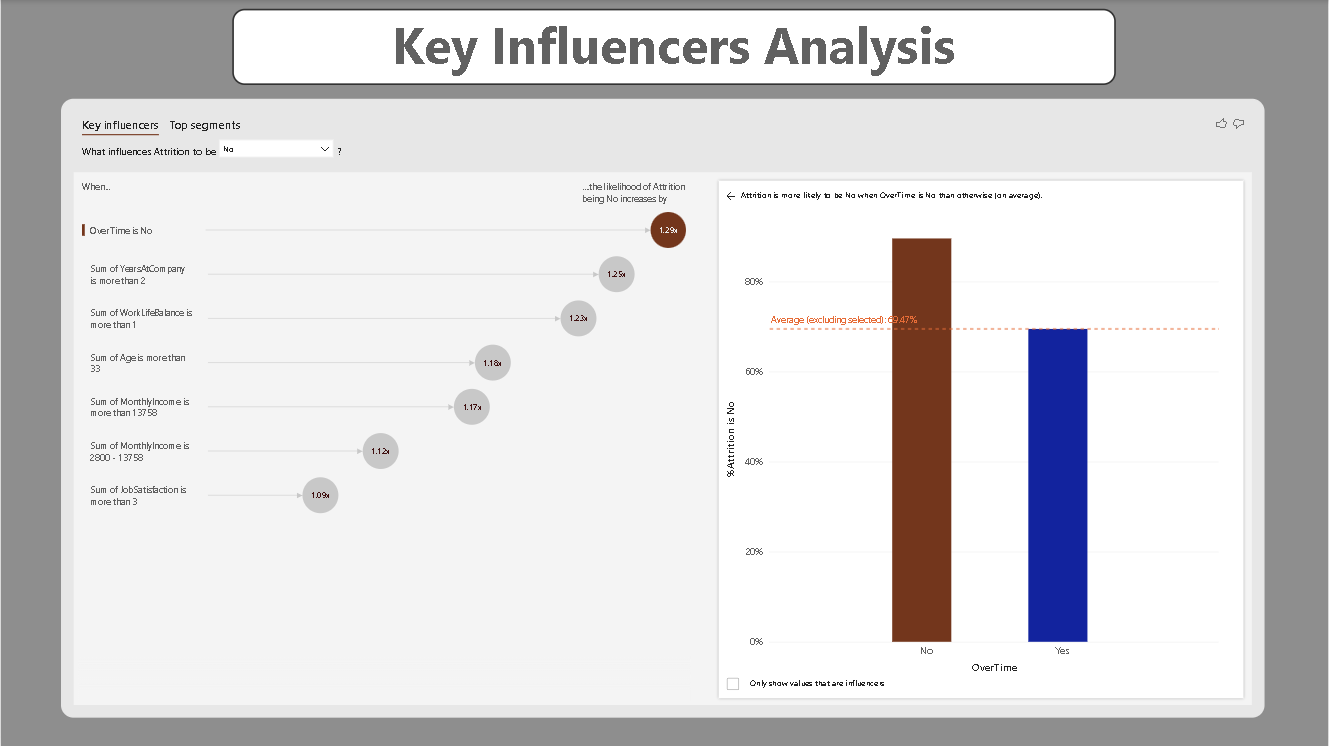

Layout of this report page (visuals, bound fields, positions):
{"tool":"powerbi","page":{"name":"Key Influencers Analysis","canvas":[1920,1080],"ordinal":1},"visuals":[{"type":"keyDriversVisual","fields":{"ExplainBy":["Sum(HR-Employee-Attrition.MonthlyIncome)","Sum(HR-Employee-Attrition.YearsAtCompany)","Sum(HR-Employee-Attrition.JobSatisfaction)","Sum(HR-Employee-Attrition.WorkLifeBalance)","HR-Employee-Attrition.OverTime","Sum(HR-Employee-Attrition.Age)"],"Target":["HR-Employee-Attrition.Attrition"]},"box":[86.9,143,1742.7,895.8],"z":0},{"type":"textbox","box":[334.8,12.7,1279.4,110.4],"z":1}]}

Visuals, with their boxes on the page's 1920x1080 design canvas (x1, y1, x2, y2). These are canvas units, not pixel positions in the 1329x746 screenshot, which may show the page scaled, cropped or inside an application window:
keyDriversVisual - Sum(HR-Employee-Attrition.MonthlyIncome) x Sum(HR-Employee-Attrition.YearsAtCompany): (87,143,1830,1039)
textbox: (335,13,1614,123)
